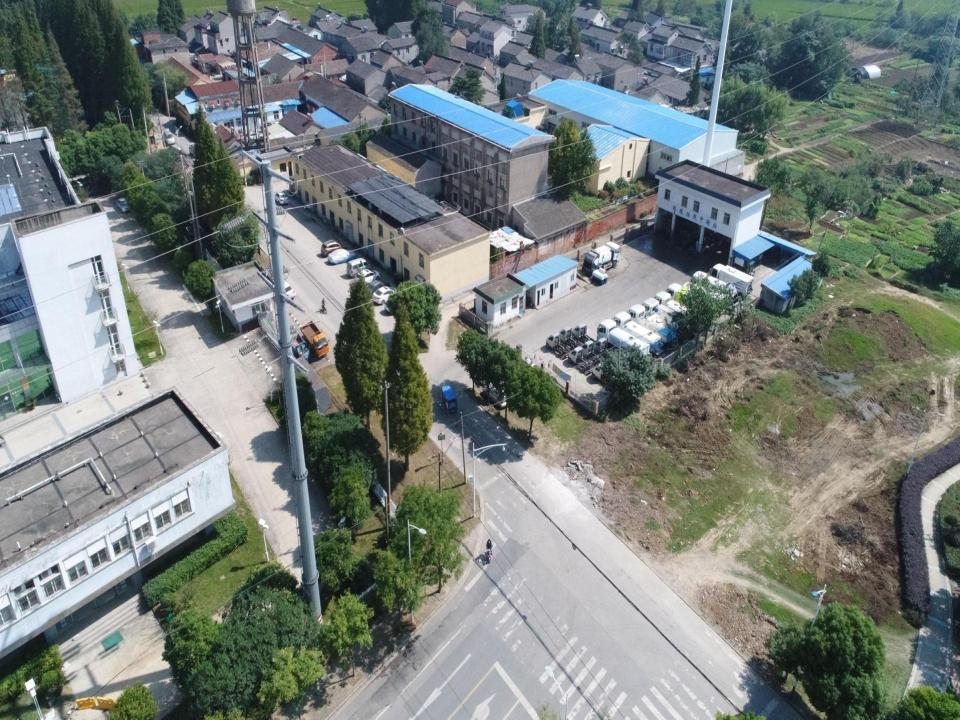car: (482, 384, 511, 409), (384, 291, 414, 315), (271, 277, 296, 303), (327, 247, 357, 265), (363, 279, 390, 299), (355, 267, 381, 287), (372, 285, 398, 305), (320, 239, 347, 257), (272, 190, 289, 206), (116, 195, 130, 214), (162, 127, 176, 146), (245, 130, 264, 143), (188, 143, 203, 158)
truck: (611, 310, 664, 356), (596, 317, 650, 362), (626, 303, 676, 346), (708, 262, 755, 302), (689, 269, 738, 307), (681, 280, 726, 312), (665, 281, 708, 313), (582, 241, 622, 274), (641, 296, 680, 328), (653, 290, 691, 322), (300, 320, 330, 359), (546, 331, 571, 360), (592, 362, 618, 388), (558, 325, 583, 351), (568, 345, 591, 373), (582, 339, 604, 366), (593, 336, 616, 359), (572, 323, 594, 343)
van: (346, 257, 371, 279)
